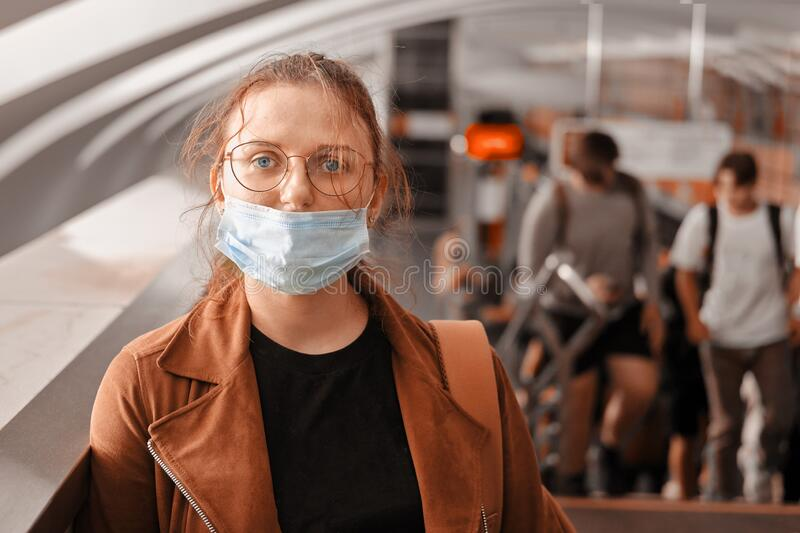mask_weared_incorrect: (223, 138, 369, 272)
